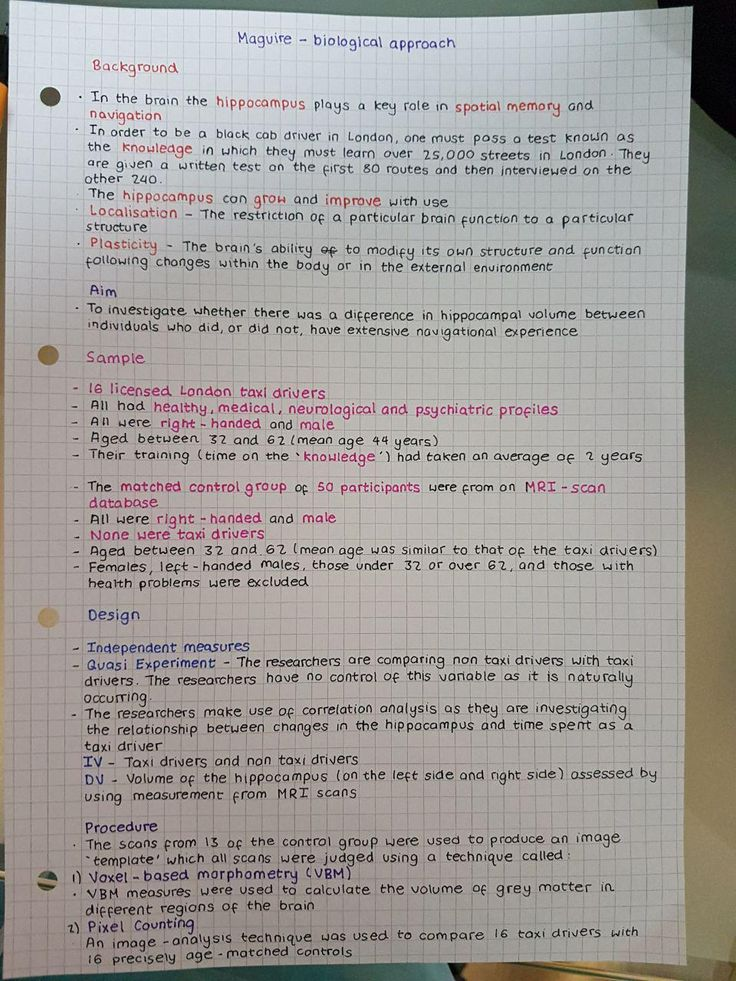page: (12, 19, 677, 956)
